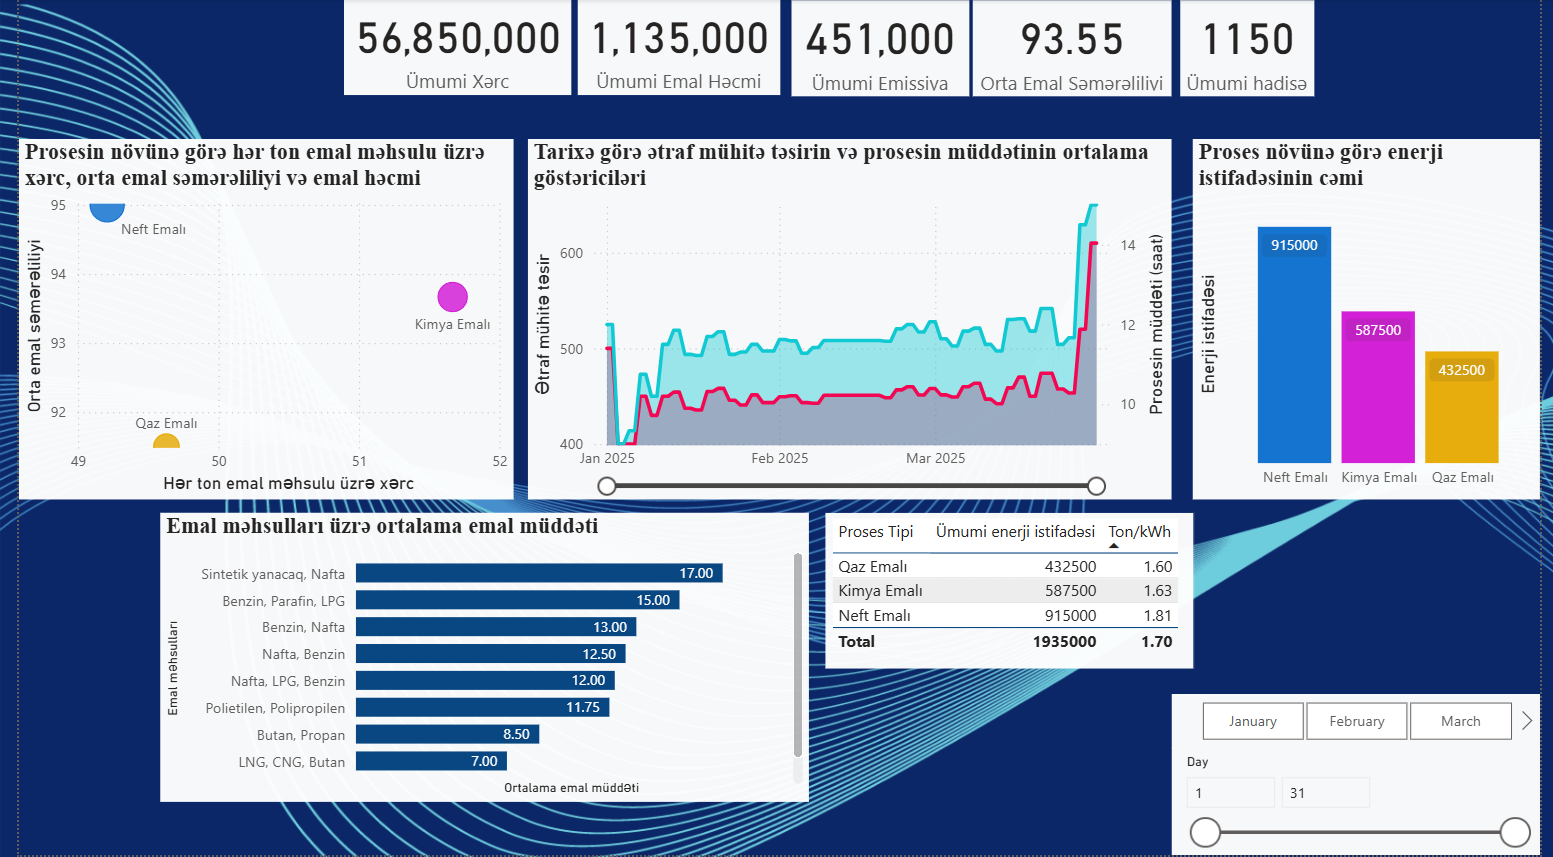

What the dashboard file says about the page in this screenshot:
{"tool":"powerbi","page":{"name":"Page 1","canvas":[1280,720],"ordinal":0},"visuals":[{"type":"card","fields":{"Values":["DATA.Total_Processed_Volume"]},"box":[470,0,170.3,81],"z":0},{"type":"card","fields":{"Values":["DATA.Avg_Processing_Efficiency"]},"box":[802.2,1.1,167.2,81],"z":1000},{"type":"card","fields":{"Values":["DATA.Total_Cost"]},"box":[273.4,0,191.4,81],"z":2000},{"type":"card","fields":{"Values":["DATA.Total_Emission"]},"box":[649.8,1.1,149.3,81],"z":3000},{"type":"tableEx","fields":{"Values":["Dim_Proses_Tipi.Proses Tipi","DATA.Total_Energy","DATA.Energy_per_Ton"]},"box":[678,431.9,309.4,131],"z":4000},{"type":"slicer","fields":{"Values":["DATA.Prosesin Başlama Tarixi.Variation.Date Hierarchy.Month"]},"box":[969.4,584.6,310.2,45.2],"z":5000},{"type":"slicer","fields":{"Values":["DATA.Prosesin Başlama Tarixi.Variation.Date Hierarchy.Day"]},"box":[969.4,629.8,310.2,90.4],"z":6000},{"type":"columnChart","title":"Proses növünə görə enerji istifadəsinin cəmi","fields":{"Category":["Dim_Proses_Tipi.Proses Tipi"],"Y":["Sum(DATA.Enerji İstifadəsi (kWh))"]},"box":[987.3,117.8,292.3,302.8],"z":7000},{"type":"scatterChart","title":"Prosesin növünə görə hər ton emal məhsulu üzrə xərc, orta emal səmərəliliyi və emal həcmi","fields":{"X":["DATA.Cost_per_Ton"],"Size":["Sum(DATA.Emal Həcmi (ton))"],"Y":["DATA.Avg_Processing_Efficiency"],"Series":["Dim_Proses_Tipi.Proses Tipi"]},"box":[0,117.8,416.4,302.8],"z":8000},{"type":"lineChart","title":"Tarixə görə ətraf mühitə təsirin və prosesin müddətinin ortalama göstəriciləri","fields":{"Y2":["Avg(DATA.Prosesin Müddəti (saat))"],"Category":["DATA.Prosesin Başlama Tarixi"],"Y":["Avg(DATA.Ətraf Mühitə Təsir (g CO2 ekvivalent))"]},"box":[427.9,117.8,541.5,302.8],"z":9000},{"type":"clusteredBarChart","title":"Emal məhsulları üzrə ortalama emal müddəti","fields":{"Category":["Dim_Emal_Mehsullari.Emal Məhsulları"],"Y":["DATA.Avg_Processing_Time"]},"box":[118.8,432.1,545.7,242.9],"z":10000},{"type":"card","fields":{"Values":["DATA.Total_Incidents"]},"box":[976.8,1.1,112.5,81],"z":11000}]}

Visuals, with their boxes in screenshot pixels (x1, y1, x2, y2), scaled from the page's 1280x720 canvas onto the 1553x857 screenshot:
card - DATA.Total_Processed_Volume: select_region(570, 0, 777, 96)
card - DATA.Avg_Processing_Efficiency: select_region(973, 1, 1176, 98)
card - DATA.Total_Cost: select_region(332, 0, 564, 96)
card - DATA.Total_Emission: select_region(788, 1, 970, 98)
tableEx - Dim_Proses_Tipi.Proses Tipi x DATA.Total_Energy: select_region(823, 514, 1198, 670)
slicer - DATA.Prosesin Başlama Tarixi.Variation.Date Hierarchy.Month: select_region(1176, 696, 1552, 750)
slicer - DATA.Prosesin Başlama Tarixi.Variation.Date Hierarchy.Day: select_region(1176, 750, 1552, 856)
"Proses növünə görə enerji istifadəsinin cəmi" columnChart: select_region(1198, 140, 1552, 501)
"Prosesin növünə görə hər ton emal məhsulu üzrə xərc, orta emal səmərəliliyi və emal həcmi" scatterChart: select_region(0, 140, 505, 501)
"Tarixə görə ətraf mühitə təsirin və prosesin müddətinin ortalama göstəriciləri" lineChart: select_region(519, 140, 1176, 501)
"Emal məhsulları üzrə ortalama emal müddəti" clusteredBarChart: select_region(144, 514, 806, 803)
card - DATA.Total_Incidents: select_region(1185, 1, 1322, 98)
